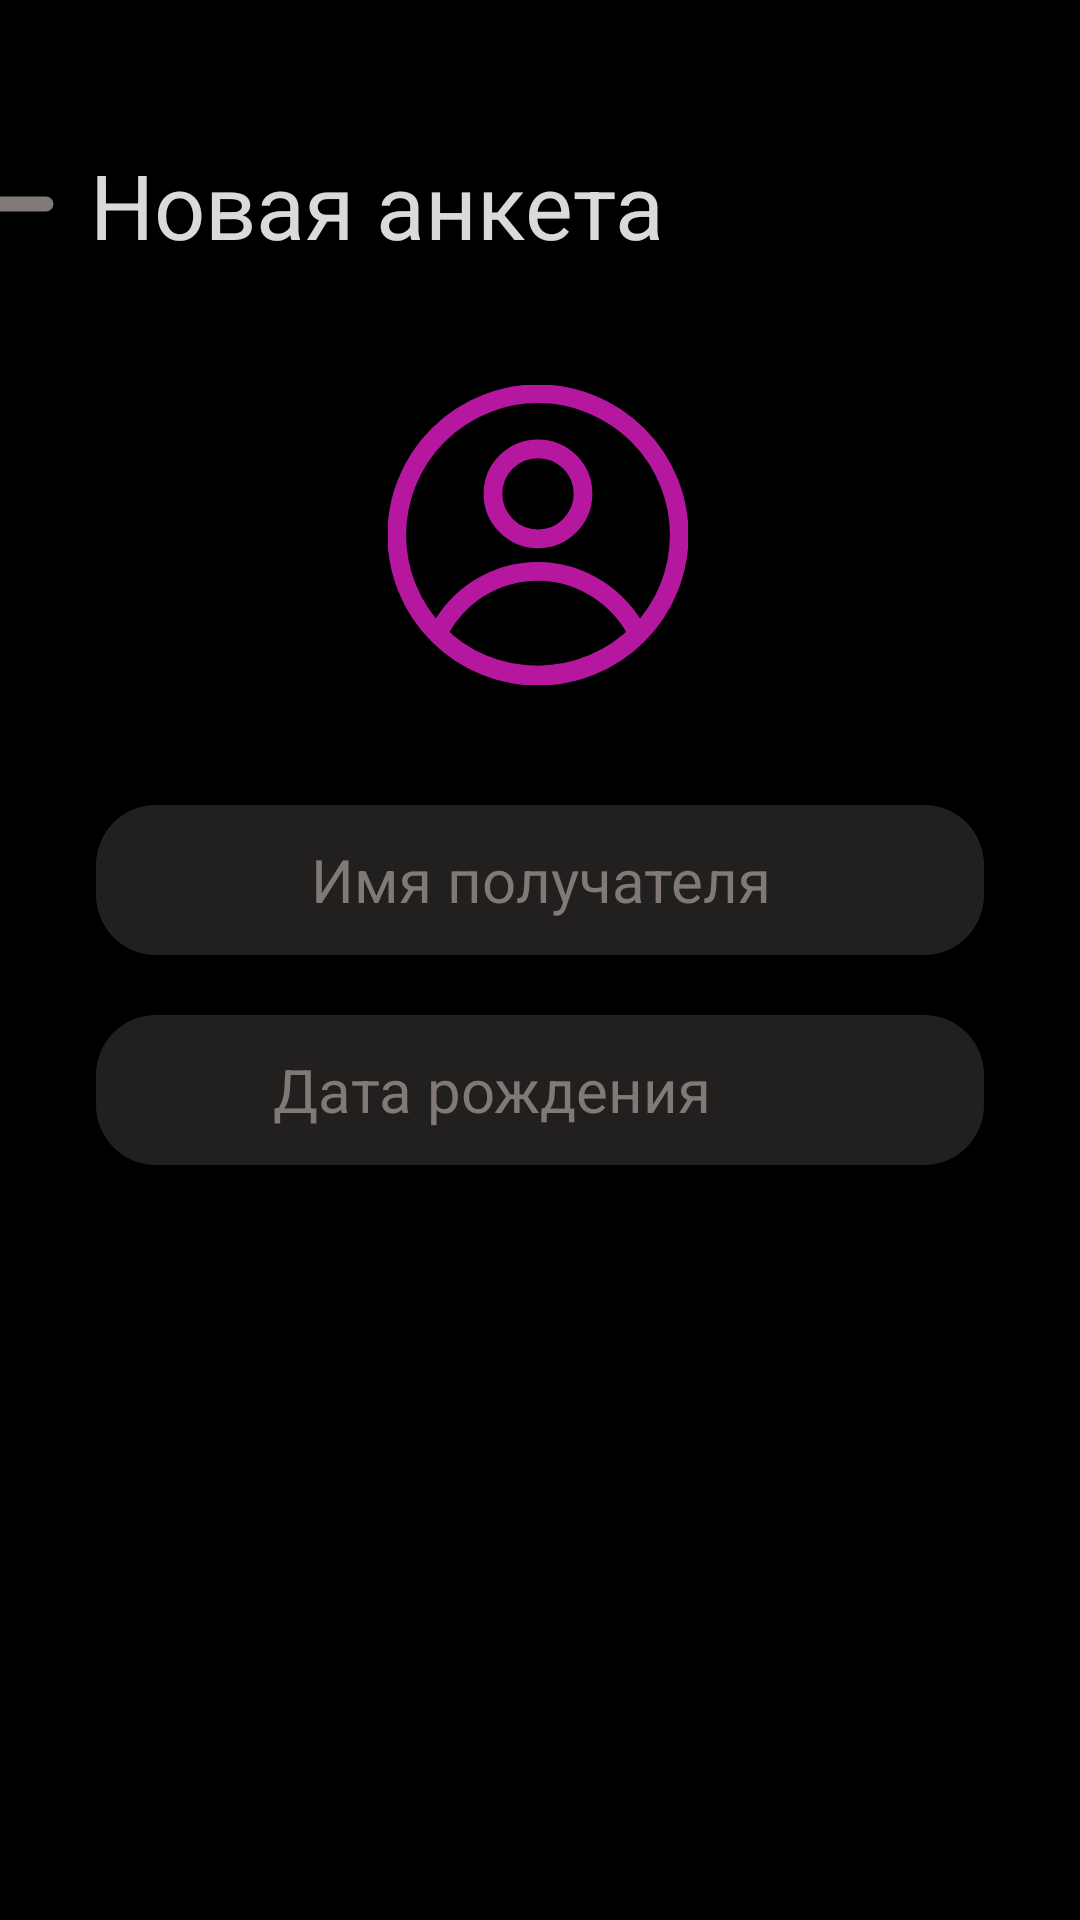

Icon click points for this 1080 x 1920 phone screenshot, format point (x, y):
account: point (538, 535)
